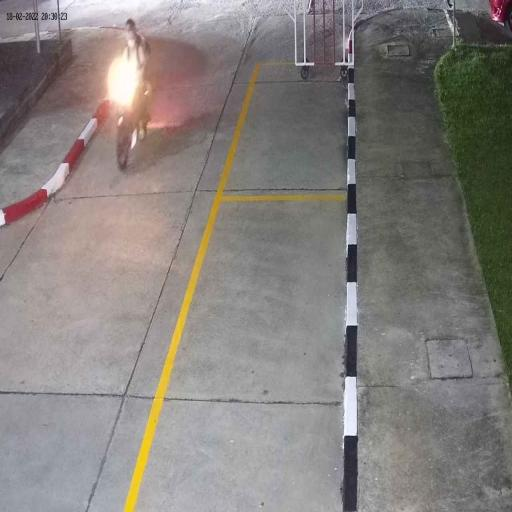motorcycle: (111, 57, 153, 172)
